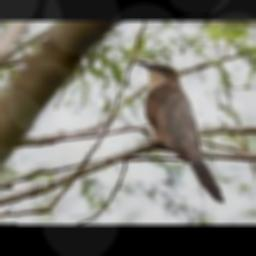Cuckoo: (137, 61, 224, 203)
